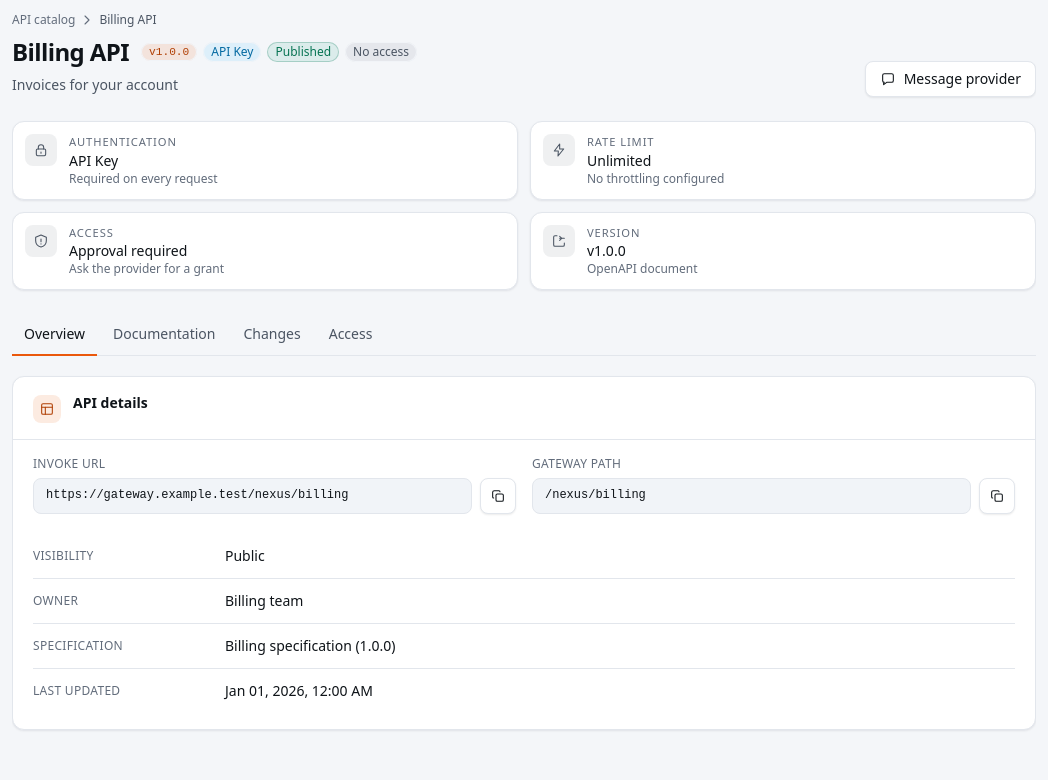
catalog change history (issue #448) › fetches nothing until opened, then shows the empty state
Expected: the heading "Billing API" is shown, [12,36,129,68]
Press the mouse on the tab "Changes": (272, 335) [232,314,313,356]
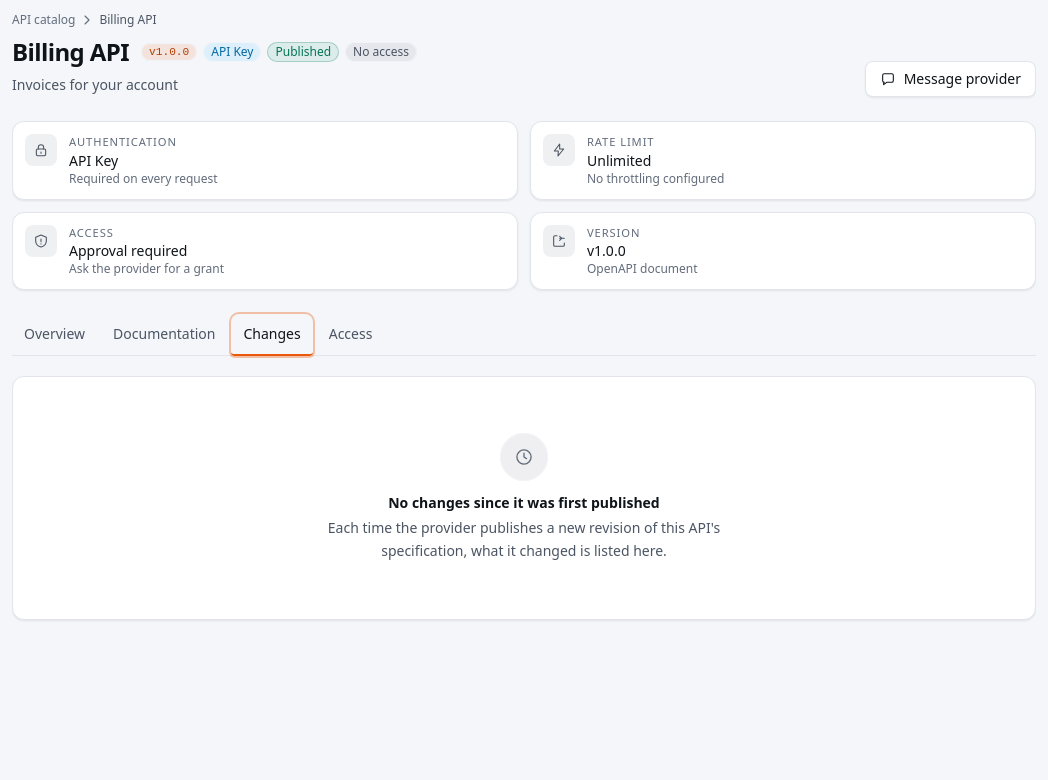
Expected: the text "No changes since it was first published" is shown, [388,493,660,512]
